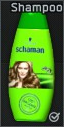Schaman shampoo: (0, 0, 64, 127)
